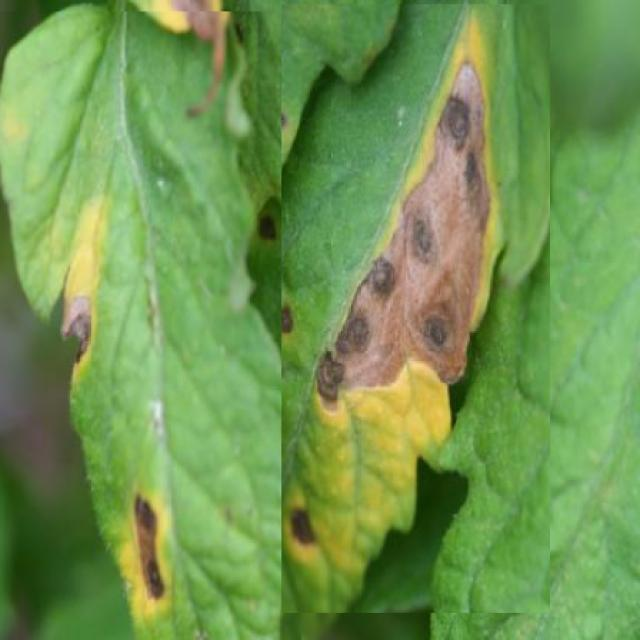Early Blight: (0, 11, 301, 639), (282, 4, 551, 613)
